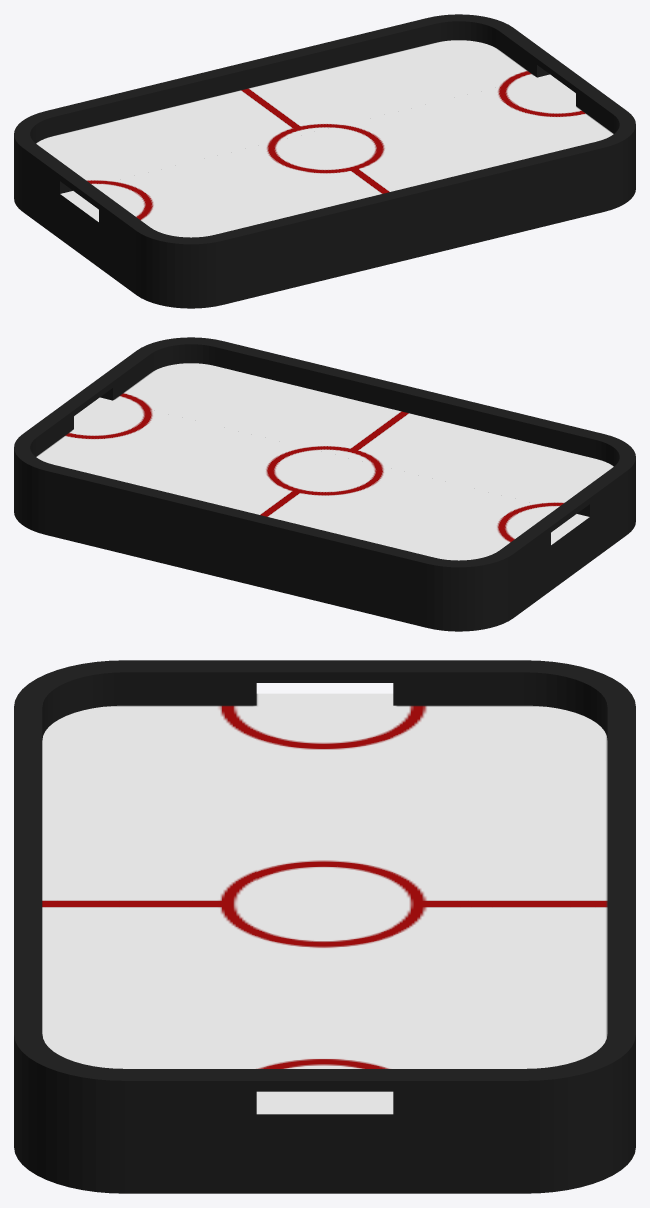
Rendered from Playground.glb.
3 views of the same model, one above another, from view 1: azimuth 30°, elevation 25°; view 2: azimuth 150°, elevation 25°; view 3: azimuth 270°, elevation 25° (orthographic). The views are drawn at different scales.
Parts seen in each view (by area): view 1: Playground; view 2: Playground; view 3: Playground.
Boxes of the visible parts, <box> form: Playground: <box>14,14,635,308</box>; Playground: <box>14,337,635,631</box>; Playground: <box>14,660,635,1193</box>.
Size of the model in its own units: 16 by 2 by 10.
1 material, 1 textured.
